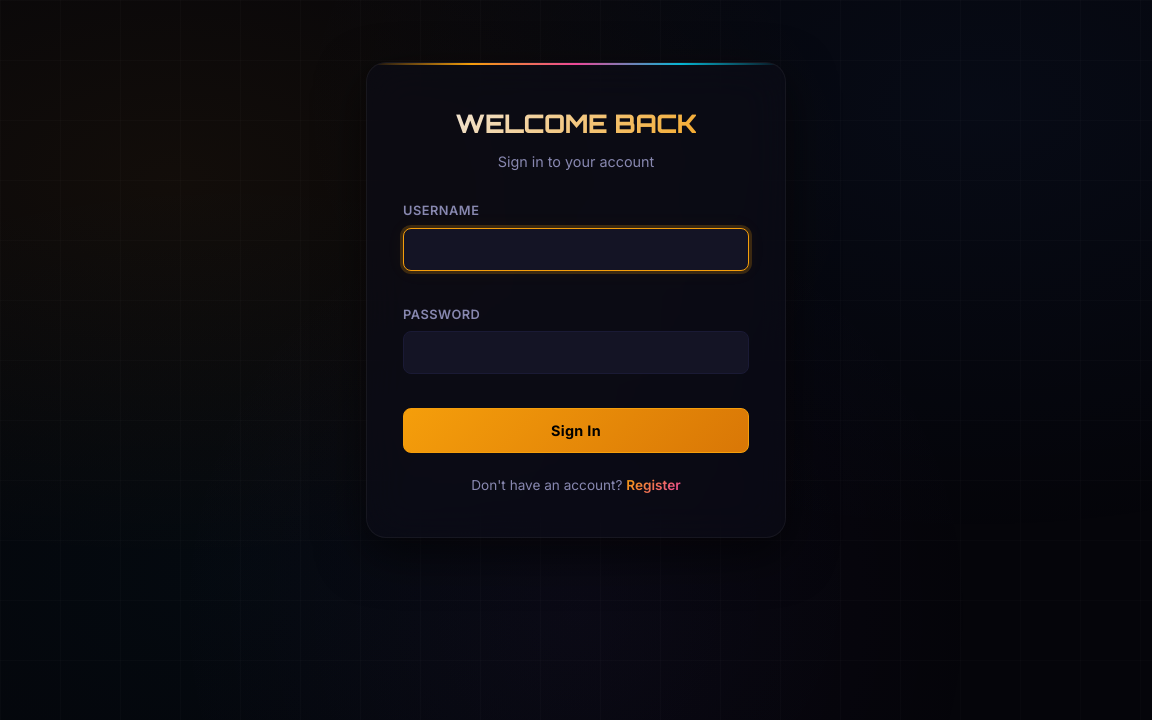
Test: LoginPage › shows validation errors on empty submit
Click the button "Sign In" at (576, 431), box [403,408,749,453]
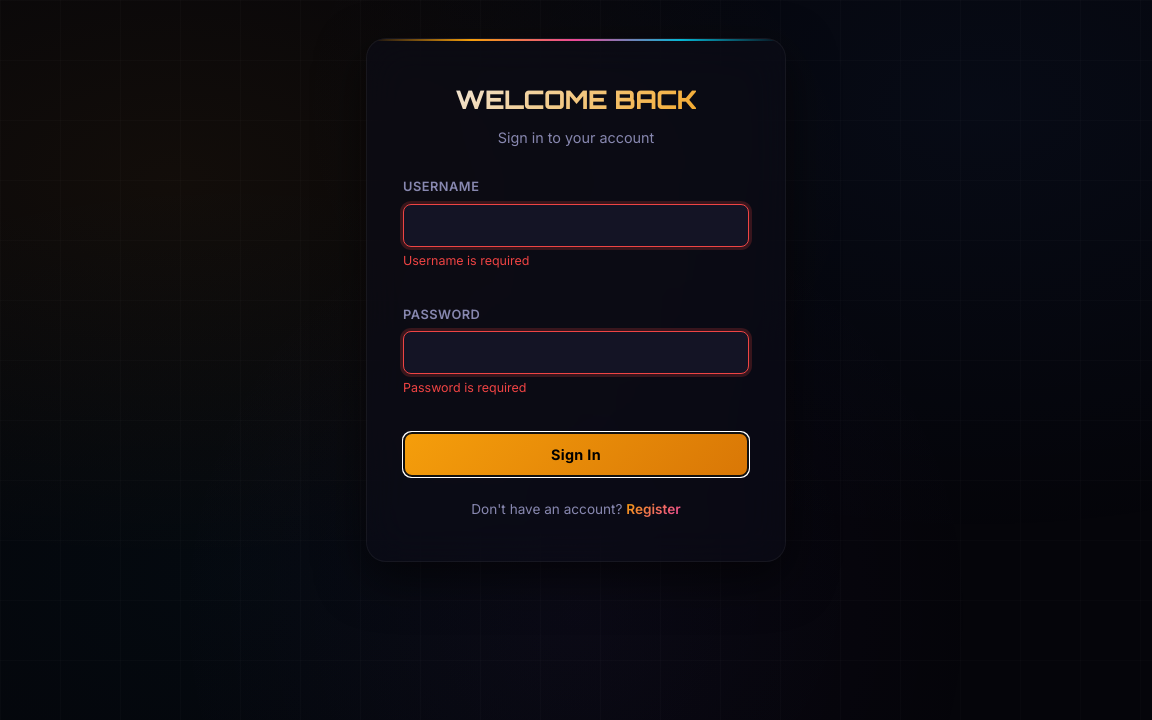
Expected: the text "Username is required" is shown, [403,253,529,268]
Expected: the text "Password is required" is shown, [403,380,526,395]
